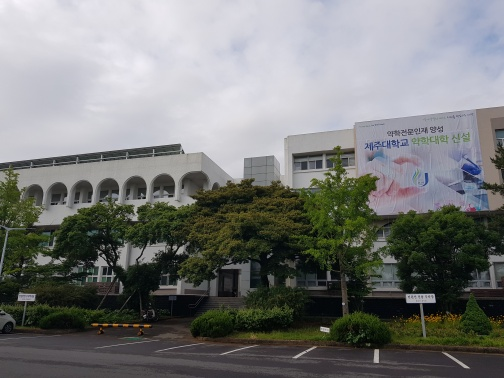Main Building of University: (7, 109, 502, 313), (46, 171, 177, 216)
